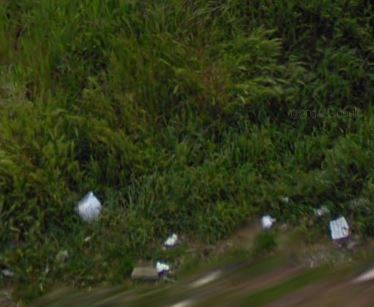trash: (71, 187, 109, 226), (126, 258, 171, 281), (326, 209, 354, 244), (258, 209, 283, 234), (161, 232, 182, 248)
